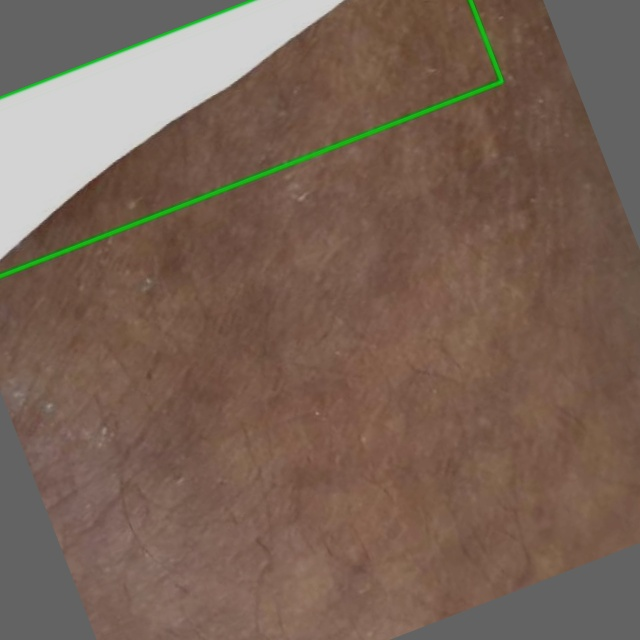Contact Dermatitis: (0, 0, 502, 275)
